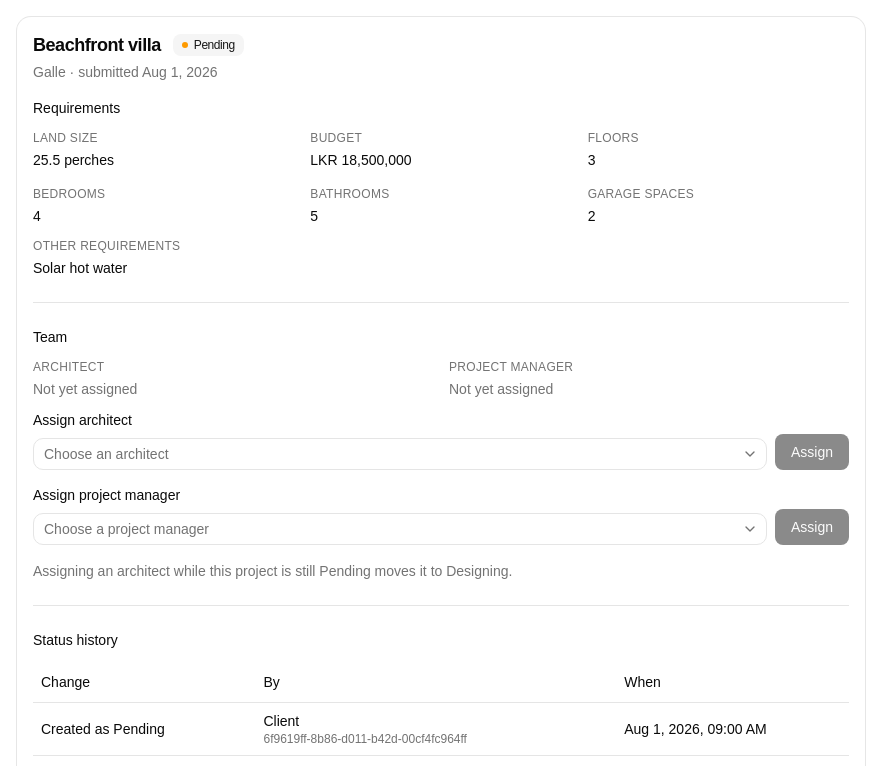
Scenario: ProjectDetailPage staff assignment › assigns the chosen architect and shows the project as it comes back
Expected: the text "Pending" is shown, [173,34,244,56]
Step 1. Click the dropdown named "Assign architect" → (106,454), box [33,438,767,470]
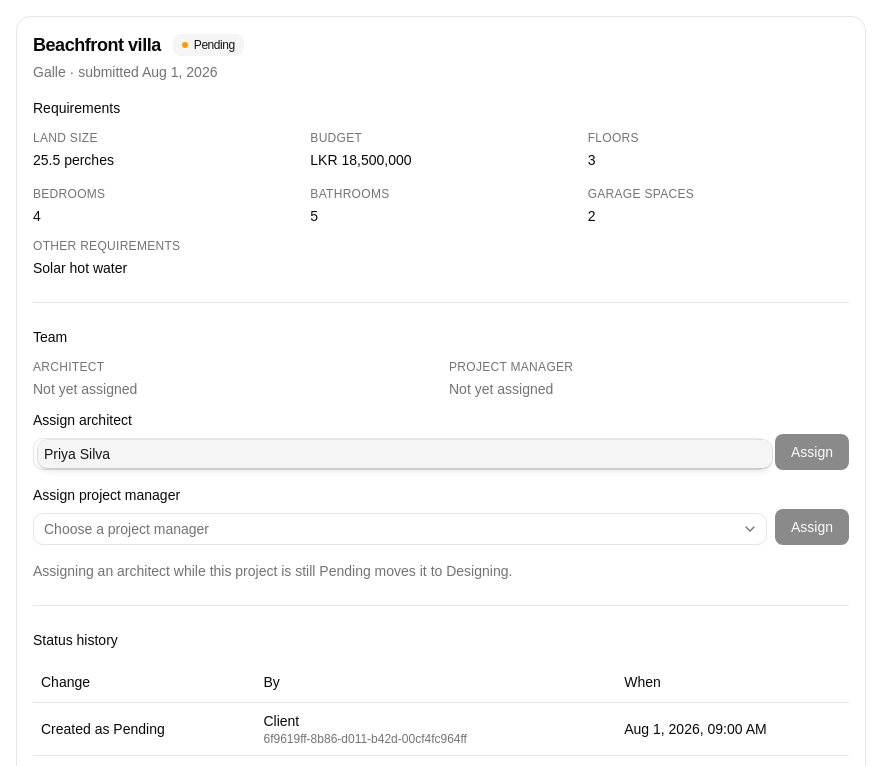
Step 2. Click the option "Priya Silva" → (77,454), box [38,440,772,468]
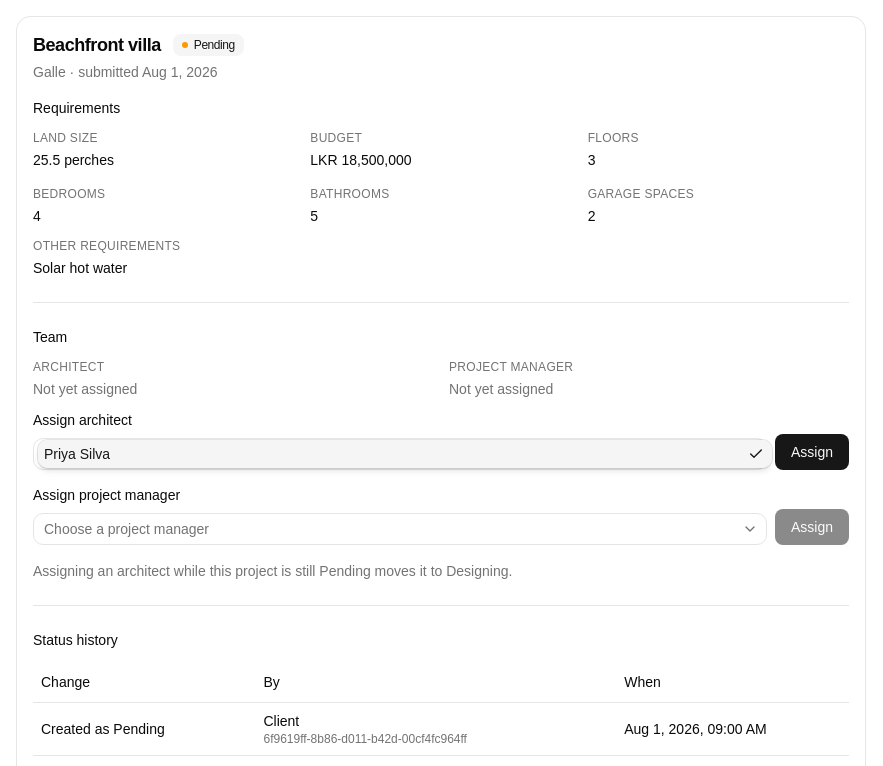
Step 3. Click the button with aria-label "Assign architect" → (812,452), box [775,434,849,470]
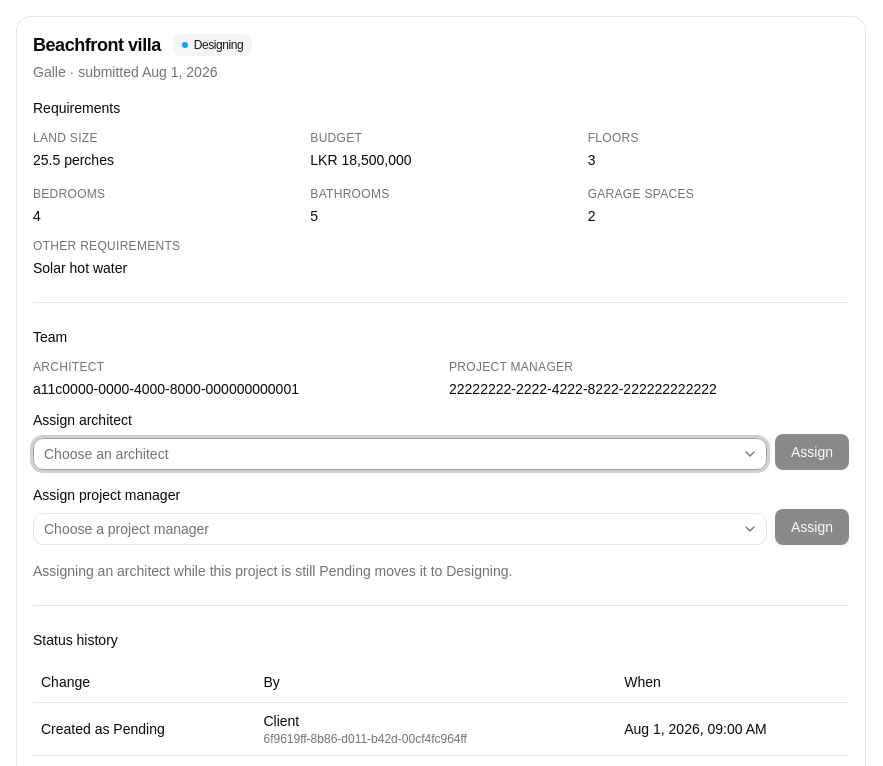
Result: the text "Designing" is shown at [173,34,252,56]
